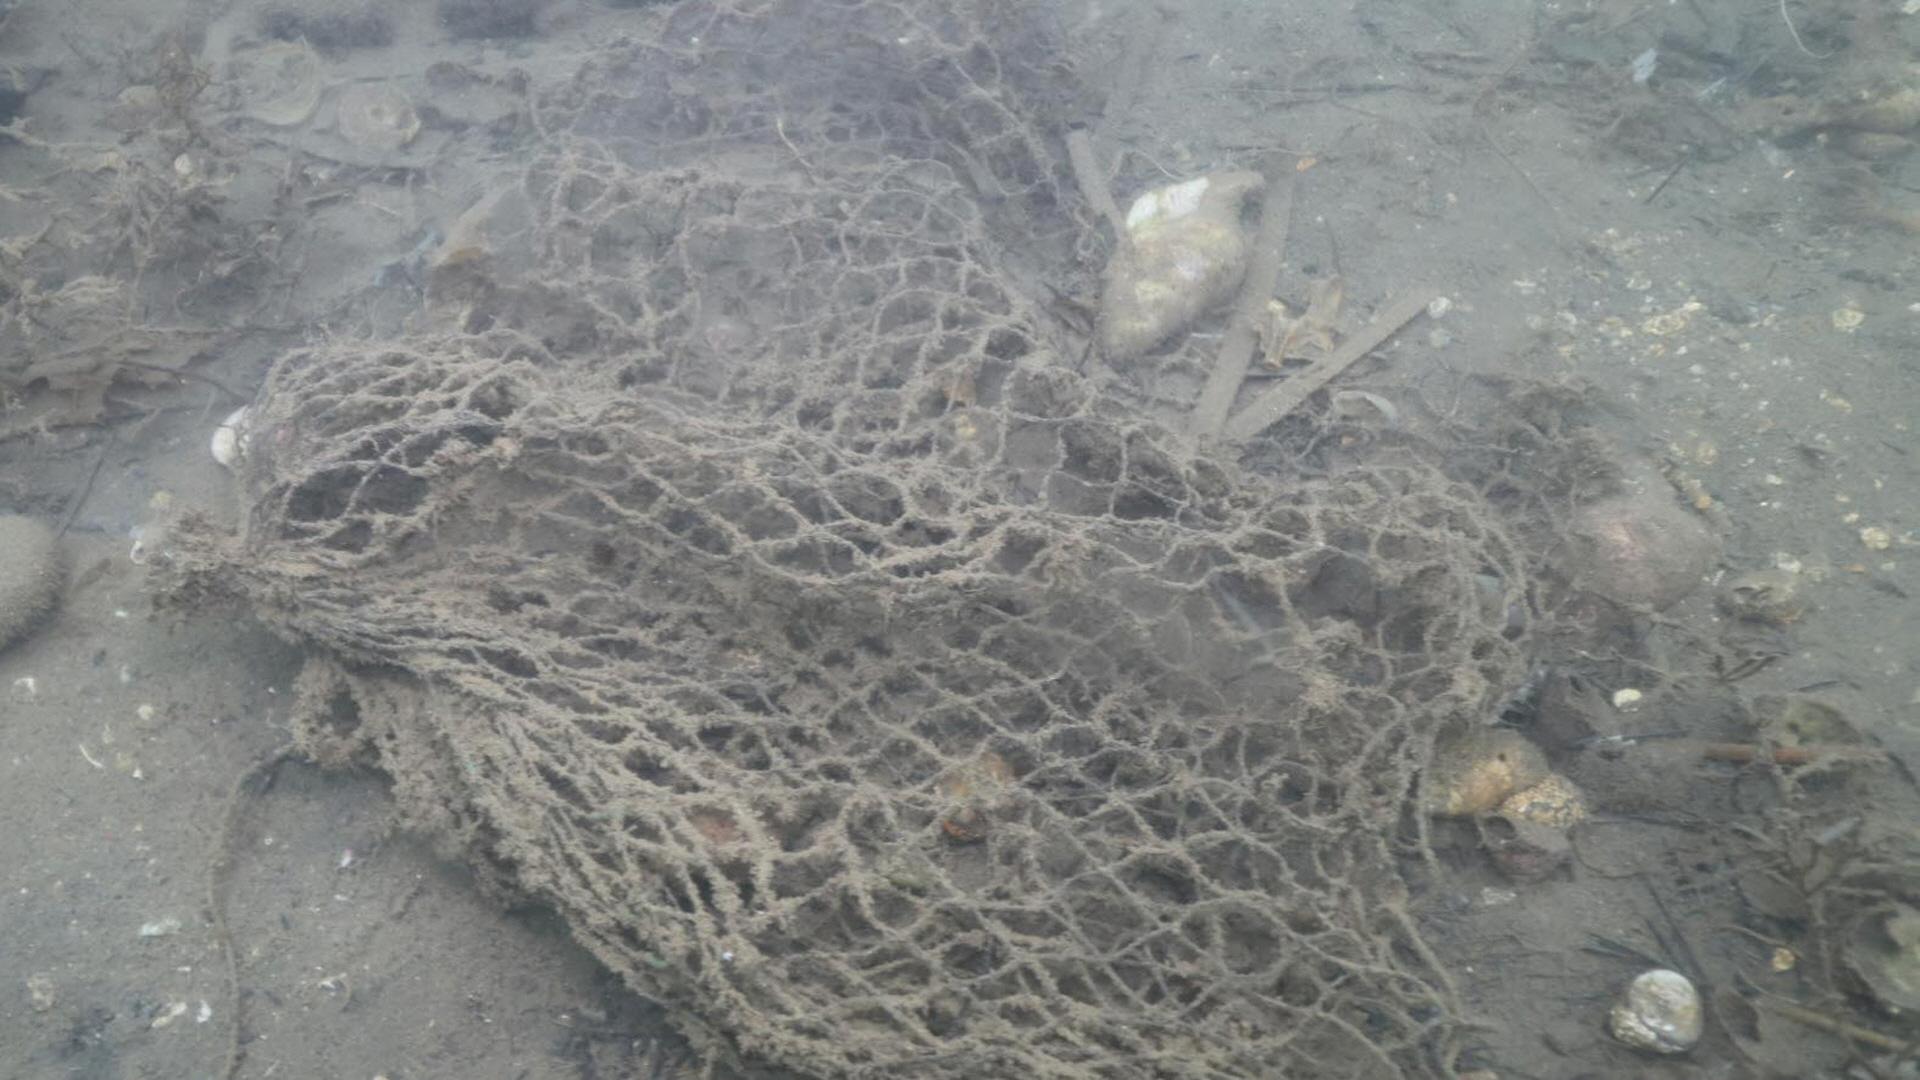fish net: (229, 1, 1531, 1080)
